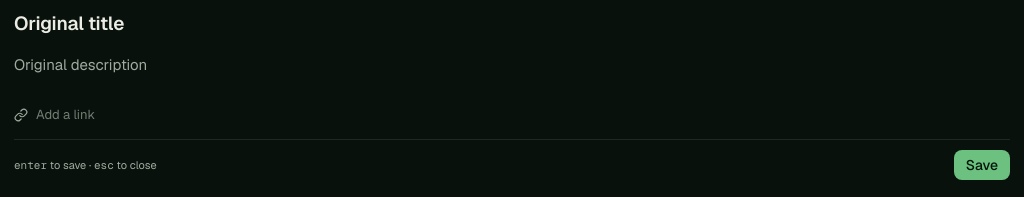
Scenario: NodeDataInput › reveals the open-in-new-tab affordance once a link is typed
Type "example.com" into the field labelled "link" at (523, 115), box [36,105,1010,125]
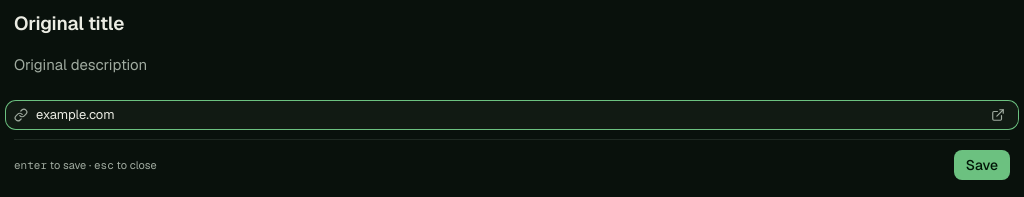
Check: the button named "Open link in a new tab" is shown, box [986,103,1010,127]
